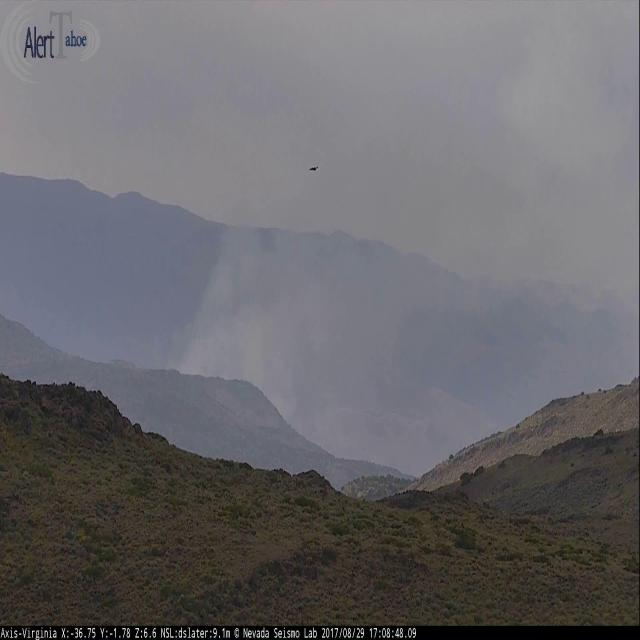smoke: (147, 0, 639, 436)
